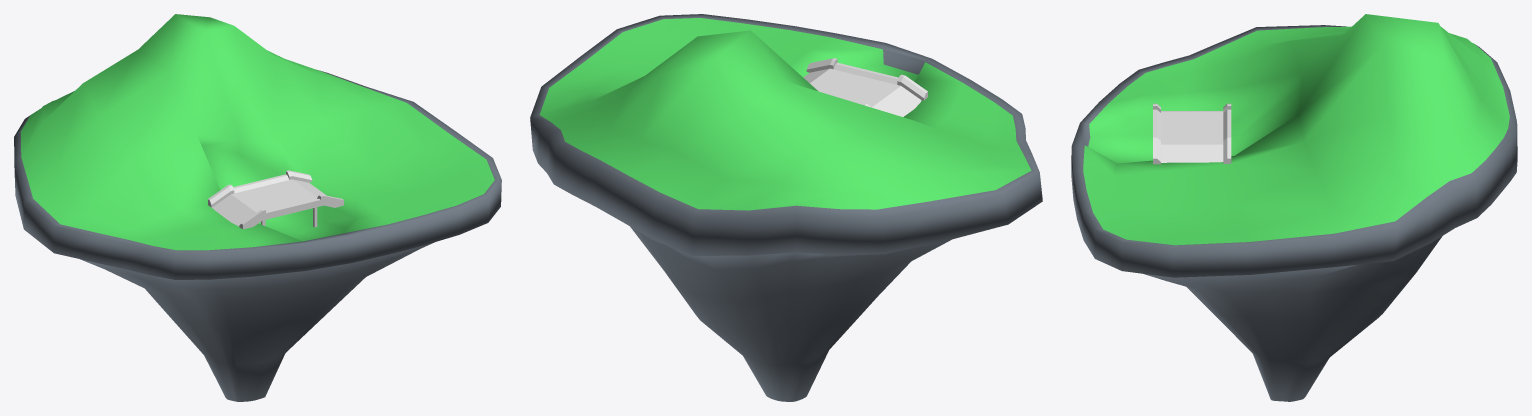
Rendered from medium_island_02.fbx.
The picture shows the model from 3 angles, left to right: view 1: azimuth 30°, elevation 25°; view 2: azimuth 150°, elevation 25°; view 3: azimuth 270°, elevation 25°; orthographic projection. The views are drawn at different scales.
Parts seen in each view (by area): view 1: Plane.002, Road.001; view 2: Plane.002, Road.001; view 3: Plane.002, Road.001.
Part boxes in pixels (x1,y1,x2,y2): Plane.002: (14, 14, 501, 401); Road.001: (208, 170, 343, 229); Plane.002: (530, 14, 1042, 401); Road.001: (803, 58, 927, 116); Plane.002: (1071, 14, 1517, 401); Road.001: (1153, 103, 1231, 164).
Bounding box in the file's own units: 3195 × 2565 × 2751.
